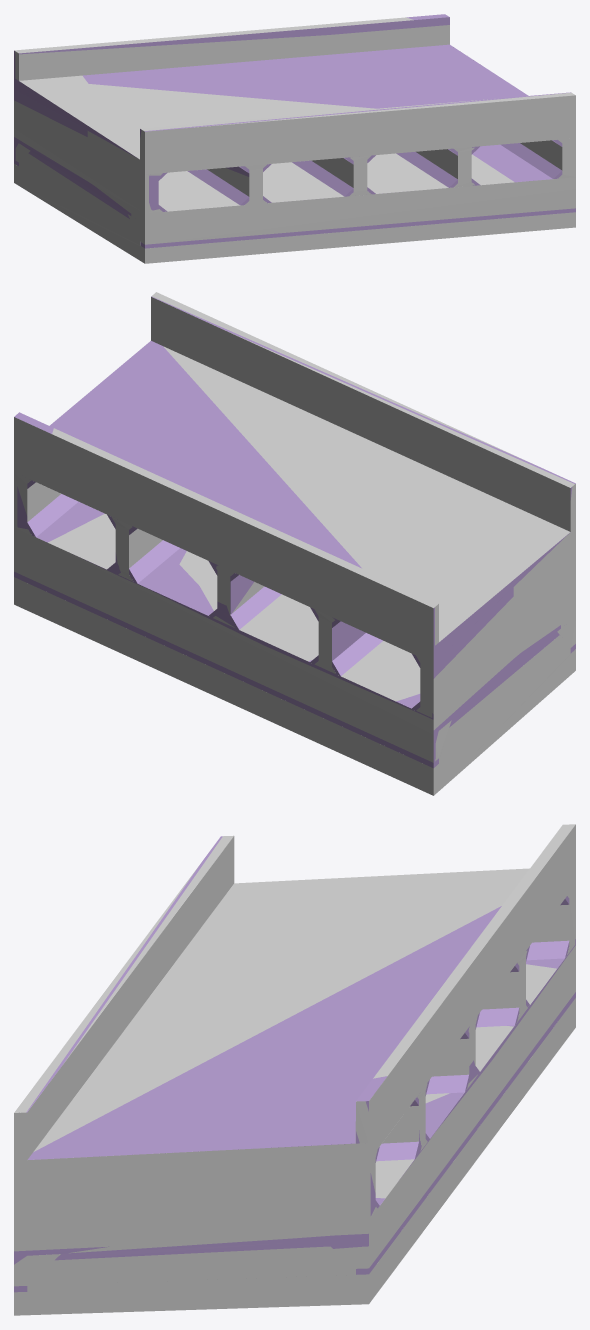
The model's file is 500125-CSSP001-780-XX-MD-ST-000210.glb.
The picture shows the model from 3 angles, top to bottom: view 1: azimuth 30°, elevation 25°; view 2: azimuth 150°, elevation 25°; view 3: azimuth 270°, elevation 25°; orthographic projection. The views are drawn at different scales.
Parts seen in each view (by area): view 1: 500125-CSSP001-780-XX-MD-ST-000210#OTR001, 500125-CSSP001-780-XX-MD-ST-000210#BOX001; view 2: 500125-CSSP001-780-XX-MD-ST-000210#OTR001, 500125-CSSP001-780-XX-MD-ST-000210#BOX001; view 3: 500125-CSSP001-780-XX-MD-ST-000210#OTR001, 500125-CSSP001-780-XX-MD-ST-000210#BOX001.
Boxes of the visible parts, x1=… form: 500125-CSSP001-780-XX-MD-ST-000210#OTR001: x1=14, y1=17, x2=575, y2=263; 500125-CSSP001-780-XX-MD-ST-000210#BOX001: x1=14, y1=14, x2=575, y2=248; 500125-CSSP001-780-XX-MD-ST-000210#OTR001: x1=14, y1=292, x2=575, y2=795; 500125-CSSP001-780-XX-MD-ST-000210#BOX001: x1=14, y1=296, x2=575, y2=768; 500125-CSSP001-780-XX-MD-ST-000210#OTR001: x1=14, y1=824, x2=575, y2=1315; 500125-CSSP001-780-XX-MD-ST-000210#BOX001: x1=14, y1=836, x2=575, y2=1292.
Bounding box in the file's own units: 10.18 × 3.48 × 8.52.
